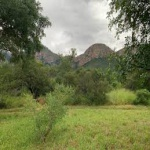Forest: (6, 93, 145, 148), (4, 49, 149, 97)
